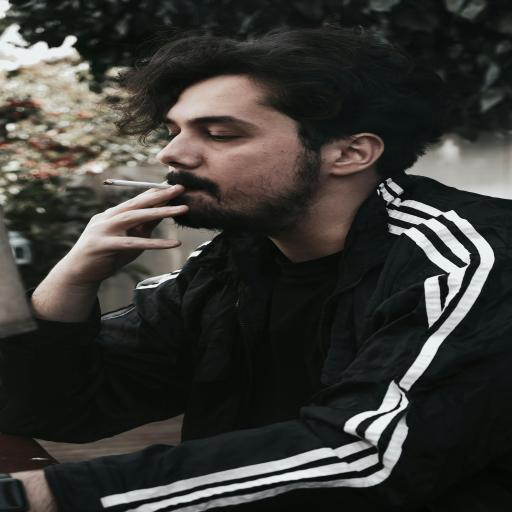terdeteksi merokok: (86, 77, 260, 232)
